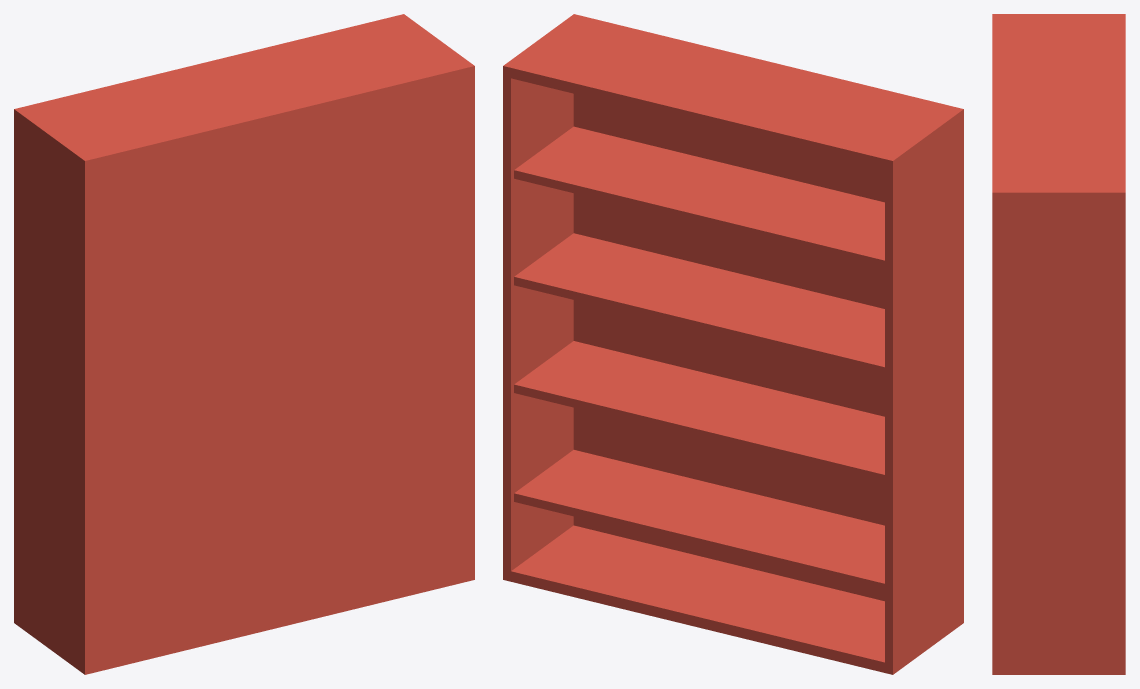
The model's file is BookShelf.fbx.
3 views of the same model, side by side, from view 1: azimuth 30°, elevation 25°; view 2: azimuth 150°, elevation 25°; view 3: azimuth 270°, elevation 25° (orthographic). The views are drawn at different scales.
Visible parts, largest first — view 1: bookshelf; view 2: bookshelf; view 3: bookshelf.
Boxes of the visible parts, bbox=[...] form: bookshelf: bbox=[14, 14, 474, 674]; bookshelf: bbox=[503, 14, 963, 674]; bookshelf: bbox=[992, 14, 1125, 674].
Bounding box in the file's own units: 184 × 232 × 57.98.
